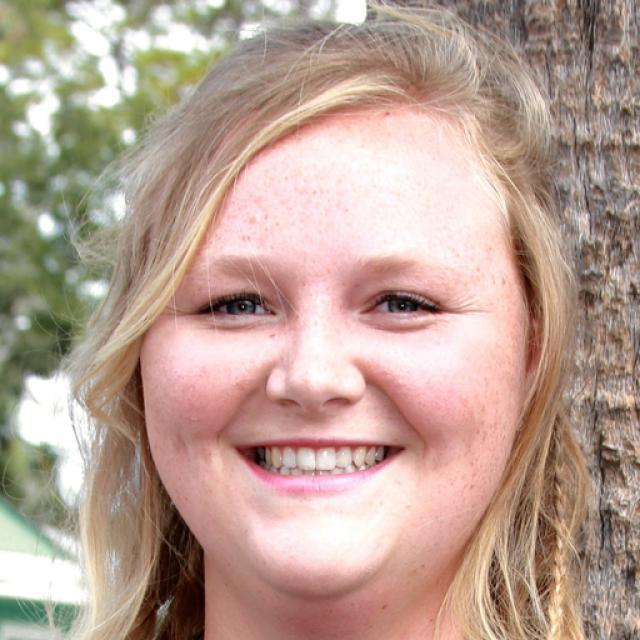happy: (132, 86, 530, 606)
